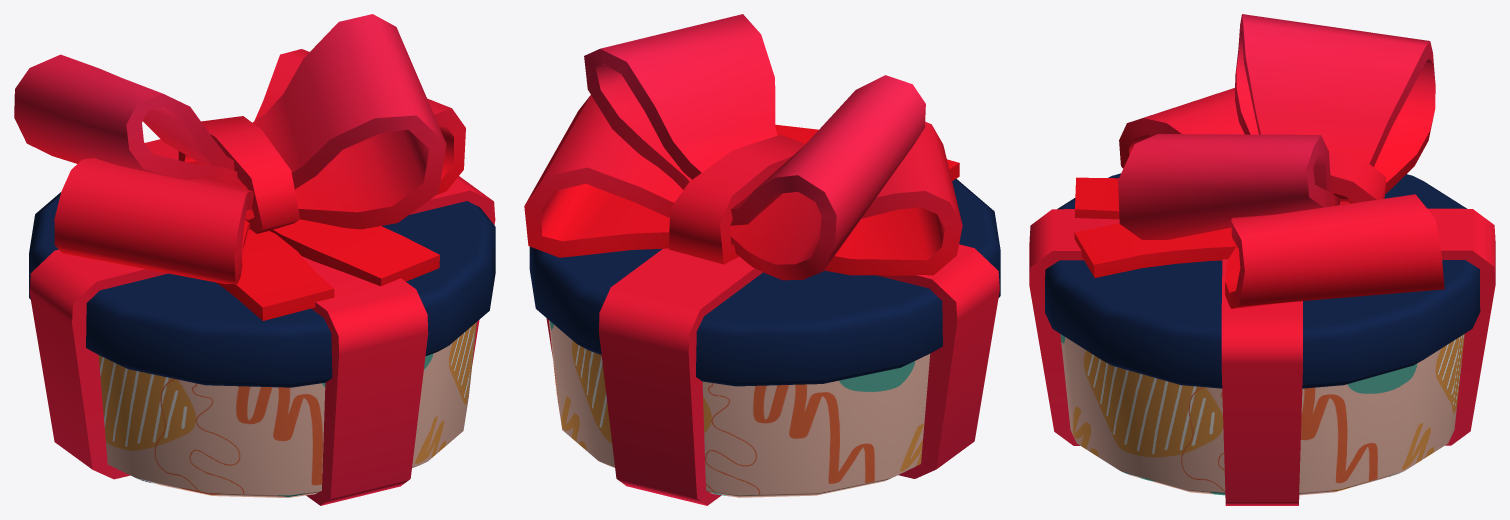
Rendered from giftbox_064.fbx.
3 renders of one model, left to right at view 1: azimuth 30°, elevation 25°; view 2: azimuth 150°, elevation 25°; view 3: azimuth 270°, elevation 25°, orthographic. The views are drawn at different scales.
Parts seen in each view (by area): view 1: giftbox_064; view 2: giftbox_064; view 3: giftbox_064.
Boxes of the visible parts, x1=… form: giftbox_064: x1=14, y1=14, x2=495, y2=505; giftbox_064: x1=524, y1=14, x2=1000, y2=505; giftbox_064: x1=1029, y1=14, x2=1495, y2=505.
Size of the model in its own units: 272 by 269 by 225.
